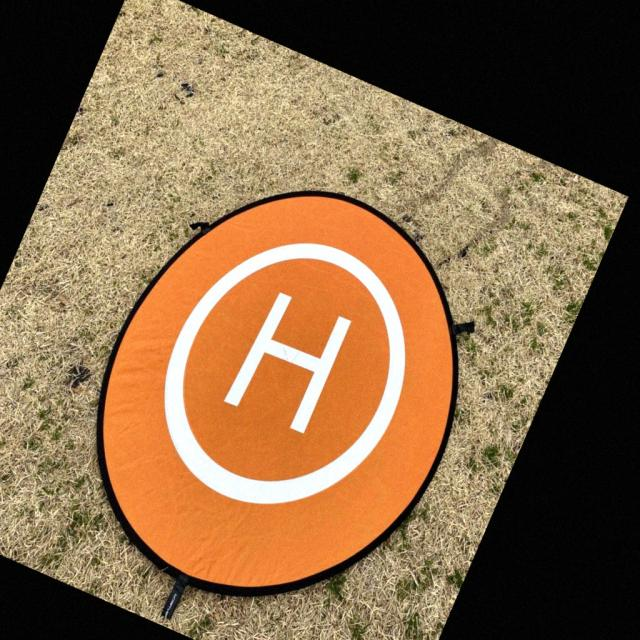helipad: (155, 235, 409, 510)
